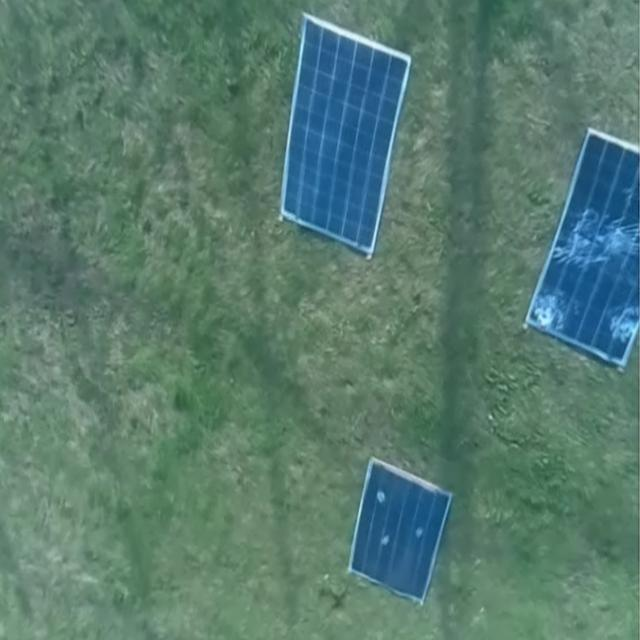faulty: (532, 126, 640, 366), (352, 458, 447, 609)
no faulty: (281, 19, 406, 260)
